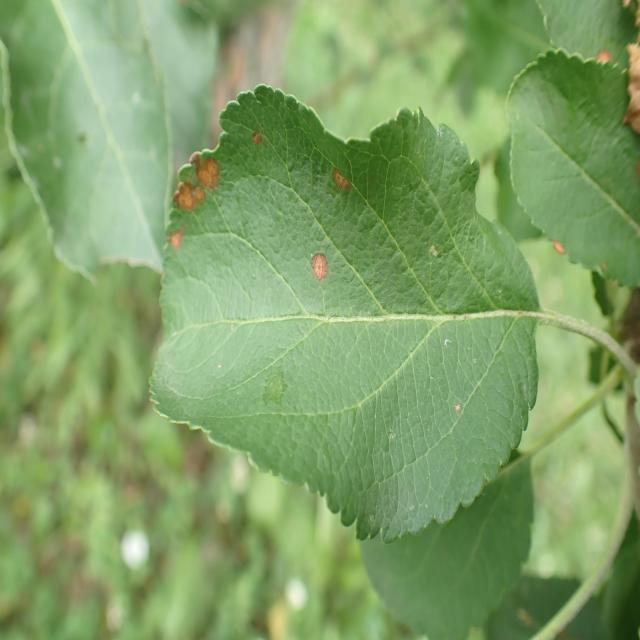Black Rot: (166, 132, 226, 213), (305, 234, 344, 310), (540, 210, 586, 272), (320, 146, 358, 200), (157, 219, 200, 266), (242, 122, 274, 162)
